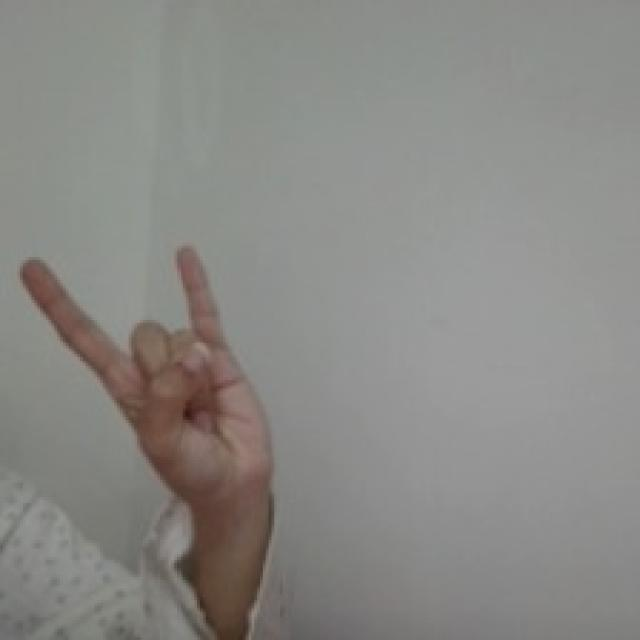No: (15, 242, 279, 507)
